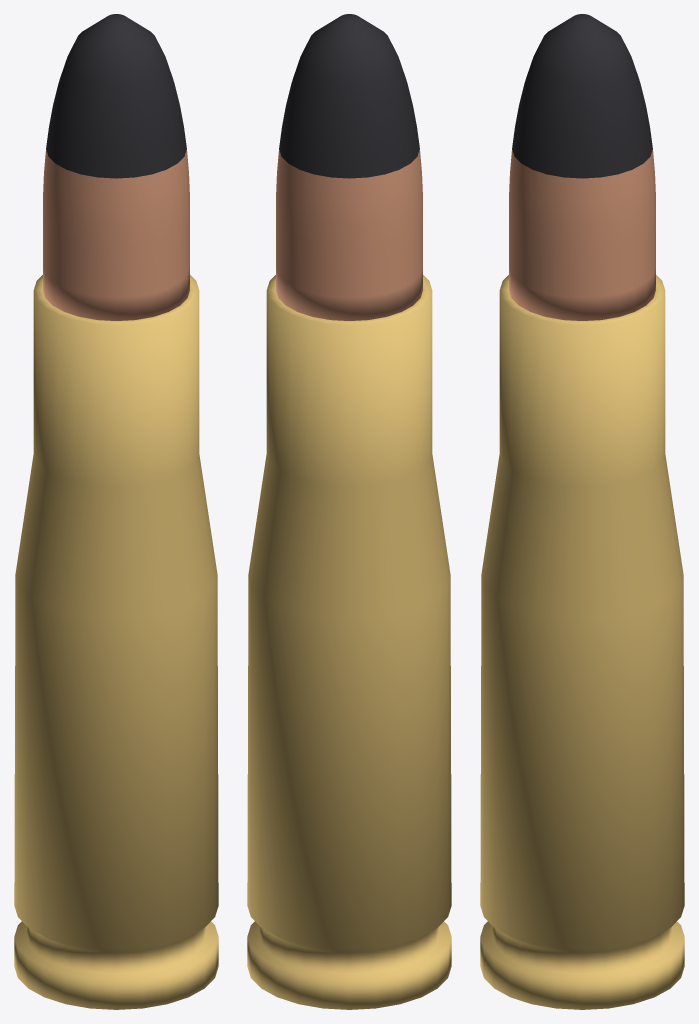
3 views of the same model, side by side, from view 1: azimuth 30°, elevation 25°; view 2: azimuth 150°, elevation 25°; view 3: azimuth 270°, elevation 25° (orthographic).
Visible parts, largest first — view 1: vaina, bala_cuerpo, punta; view 2: vaina, bala_cuerpo, punta; view 3: vaina, bala_cuerpo, punta.
Part boxes in pixels (bbox=[...]): vaina: bbox=[14, 275, 218, 1009]; bala_cuerpo: bbox=[43, 149, 189, 320]; punta: bbox=[46, 14, 186, 178]; vaina: bbox=[247, 275, 451, 1009]; bala_cuerpo: bbox=[276, 149, 422, 320]; punta: bbox=[279, 14, 419, 178]; vaina: bbox=[480, 275, 684, 1009]; bala_cuerpo: bbox=[509, 149, 655, 320]; punta: bbox=[512, 14, 652, 178].
Size of the model in its own units: 0.0079 by 0.0405 by 0.0079.
